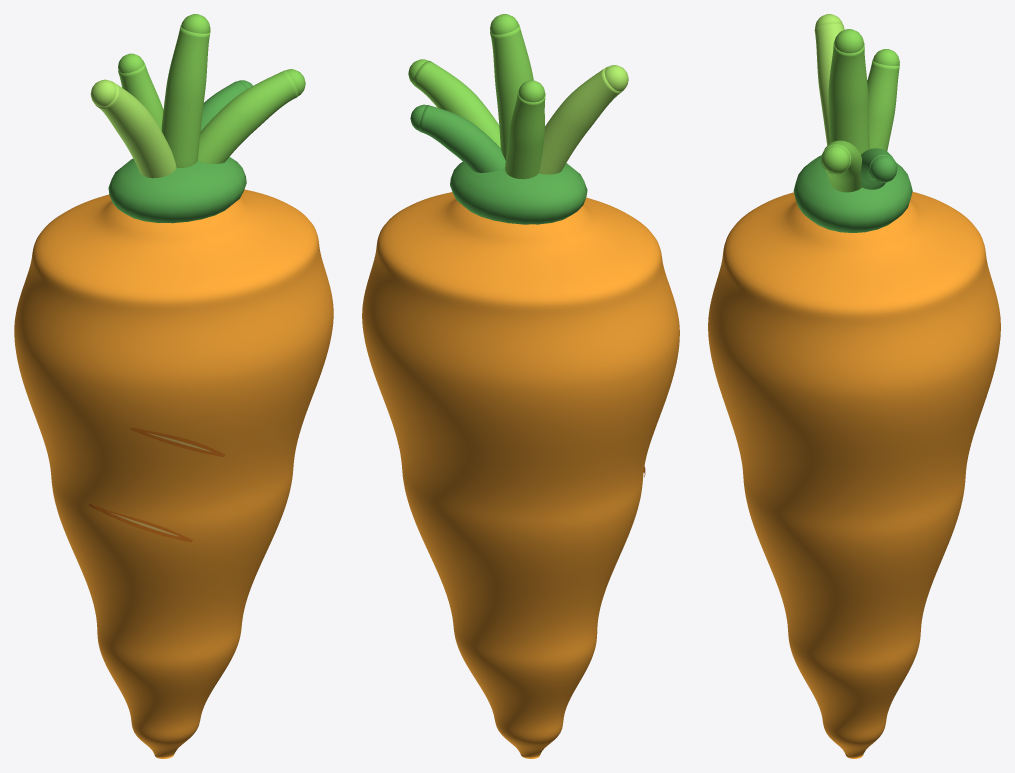
The model's file is Crop_Carrot_Normal_v001_reference_r01.fbx.
3 renders of one model, left to right at view 1: azimuth 30°, elevation 25°; view 2: azimuth 150°, elevation 25°; view 3: azimuth 270°, elevation 25°, orthographic.
Visible parts, largest first — view 1: Crop_Carrot_Normal_v001_Body_Reference_r01, LeafStem_GlossyRootKnot_Reference_r01, LeafStem_CenterTall_Reference_r01, LeafStem_RightWide_Reference_r01, LeafStem_LeftTall_Reference_r01, LeafStem_BackTall_Reference_r01, LeafStem_BackRight_Reference_r01, CarrotSoftGroove_Lower_Reference_r01, CarrotSoftGroove_Upper_Reference_r01, LeafStem_LeftTall_Reference_r01_RoundedEnd; view 2: Crop_Carrot_Normal_v001_Body_Reference_r01, LeafStem_GlossyRootKnot_Reference_r01, LeafStem_LeftTall_Reference_r01, LeafStem_BackRight_Reference_r01, LeafStem_CenterTall_Reference_r01, LeafStem_RightWide_Reference_r01, LeafStem_BackTall_Reference_r01; view 3: Crop_Carrot_Normal_v001_Body_Reference_r01, LeafStem_GlossyRootKnot_Reference_r01, LeafStem_CenterTall_Reference_r01, LeafStem_BackTall_Reference_r01, LeafStem_LeftTall_Reference_r01, LeafStem_RightWide_Reference_r01, LeafStem_BackRight_Reference_r01, LeafStem_RightWide_Reference_r01_RoundedEnd, LeafStem_BackRight_Reference_r01_RoundedEnd, LeafStem_CenterTall_Reference_r01_RoundedEnd.
Boxes of the visible parts, <box> form: Crop_Carrot_Normal_v001_Body_Reference_r01: <box>14,189,333,758</box>; LeafStem_GlossyRootKnot_Reference_r01: <box>108,157,246,223</box>; LeafStem_CenterTall_Reference_r01: <box>161,25,210,167</box>; LeafStem_RightWide_Reference_r01: <box>197,70,298,163</box>; LeafStem_LeftTall_Reference_r01: <box>95,80,176,178</box>; LeafStem_BackTall_Reference_r01: <box>118,62,163,130</box>; LeafStem_BackRight_Reference_r01: <box>200,81,247,131</box>; CarrotSoftGroove_Lower_Reference_r01: <box>88,504,192,542</box>; CarrotSoftGroove_Upper_Reference_r01: <box>130,427,225,456</box>; LeafStem_LeftTall_Reference_r01_RoundedEnd: <box>90,79,116,107</box>; Crop_Carrot_Normal_v001_Body_Reference_r01: <box>362,192,679,758</box>; LeafStem_GlossyRootKnot_Reference_r01: <box>450,162,587,224</box>; LeafStem_LeftTall_Reference_r01: <box>539,66,623,174</box>; LeafStem_BackRight_Reference_r01: <box>419,105,505,172</box>; LeafStem_CenterTall_Reference_r01: <box>490,24,533,160</box>; LeafStem_RightWide_Reference_r01: <box>413,60,500,147</box>; LeafStem_BackTall_Reference_r01: <box>505,90,545,179</box>; Crop_Carrot_Normal_v001_Body_Reference_r01: <box>708,192,1000,758</box>; LeafStem_GlossyRootKnot_Reference_r01: <box>793,155,912,232</box>; LeafStem_CenterTall_Reference_r01: <box>828,40,869,154</box>; LeafStem_BackTall_Reference_r01: <box>867,59,899,151</box>; LeafStem_LeftTall_Reference_r01: <box>814,22,844,145</box>; LeafStem_RightWide_Reference_r01: <box>821,140,862,192</box>; LeafStem_BackRight_Reference_r01: <box>860,148,897,189</box>; LeafStem_RightWide_Reference_r01_RoundedEnd: <box>821,145,850,174</box>; LeafStem_BackRight_Reference_r01_RoundedEnd: <box>870,156,897,182</box>; LeafStem_CenterTall_Reference_r01_RoundedEnd: <box>834,29,864,53</box>.
Bounding box in the file's own units: 125 × 309 × 111.
